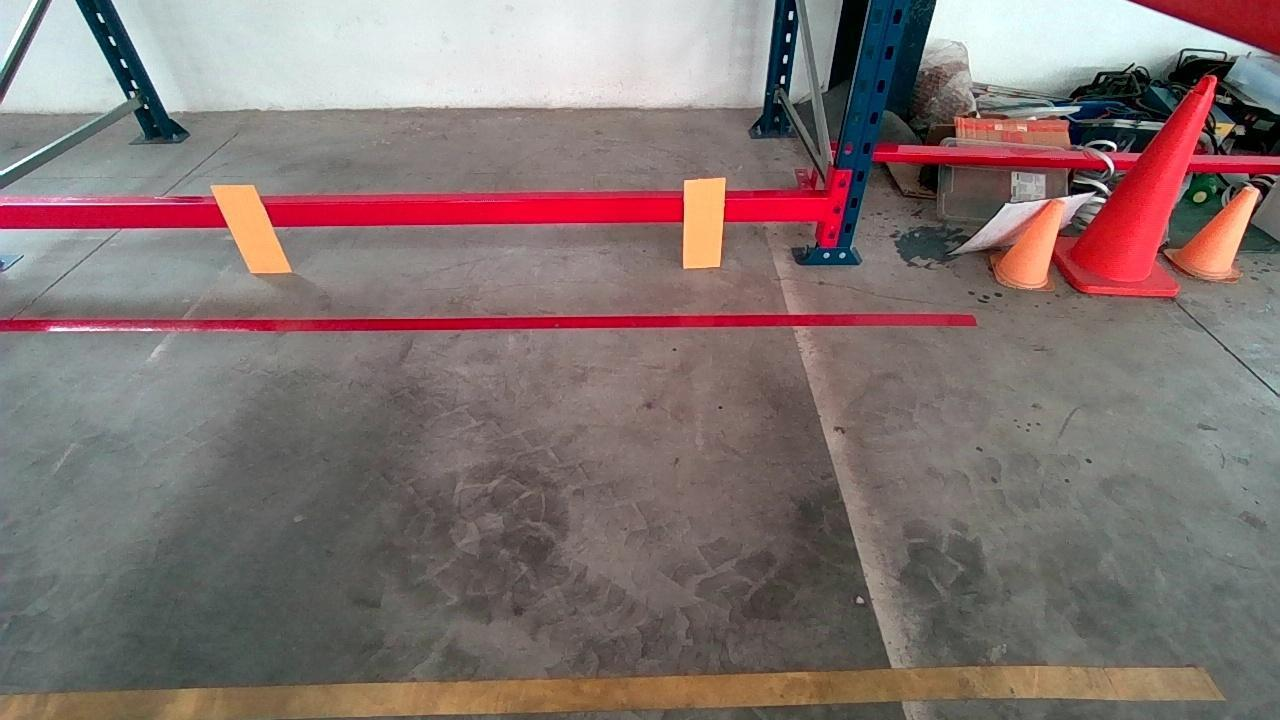h_rack: (4, 191, 835, 232)
orange_strip: (212, 184, 289, 270), (683, 177, 725, 266)
red_line: (0, 314, 979, 329)
yellow_line: (0, 659, 1228, 720)
